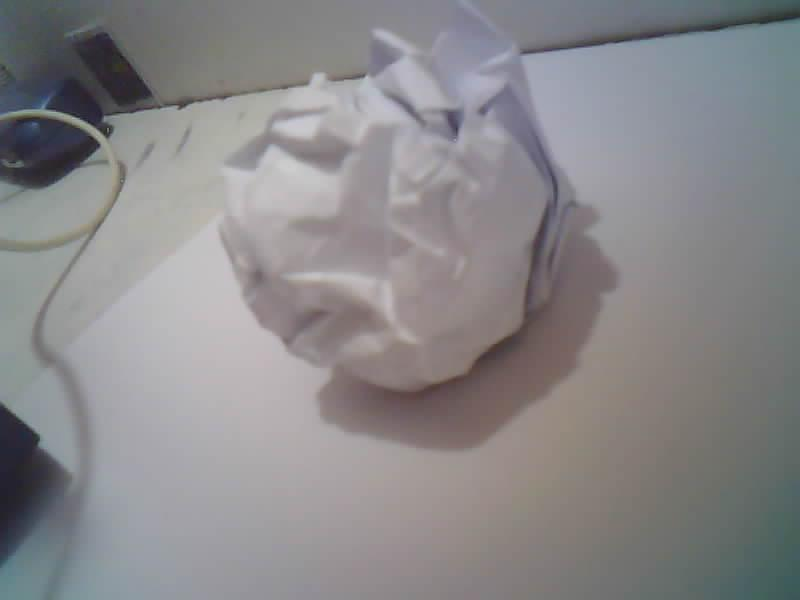biodegradable: (219, 2, 573, 391)
